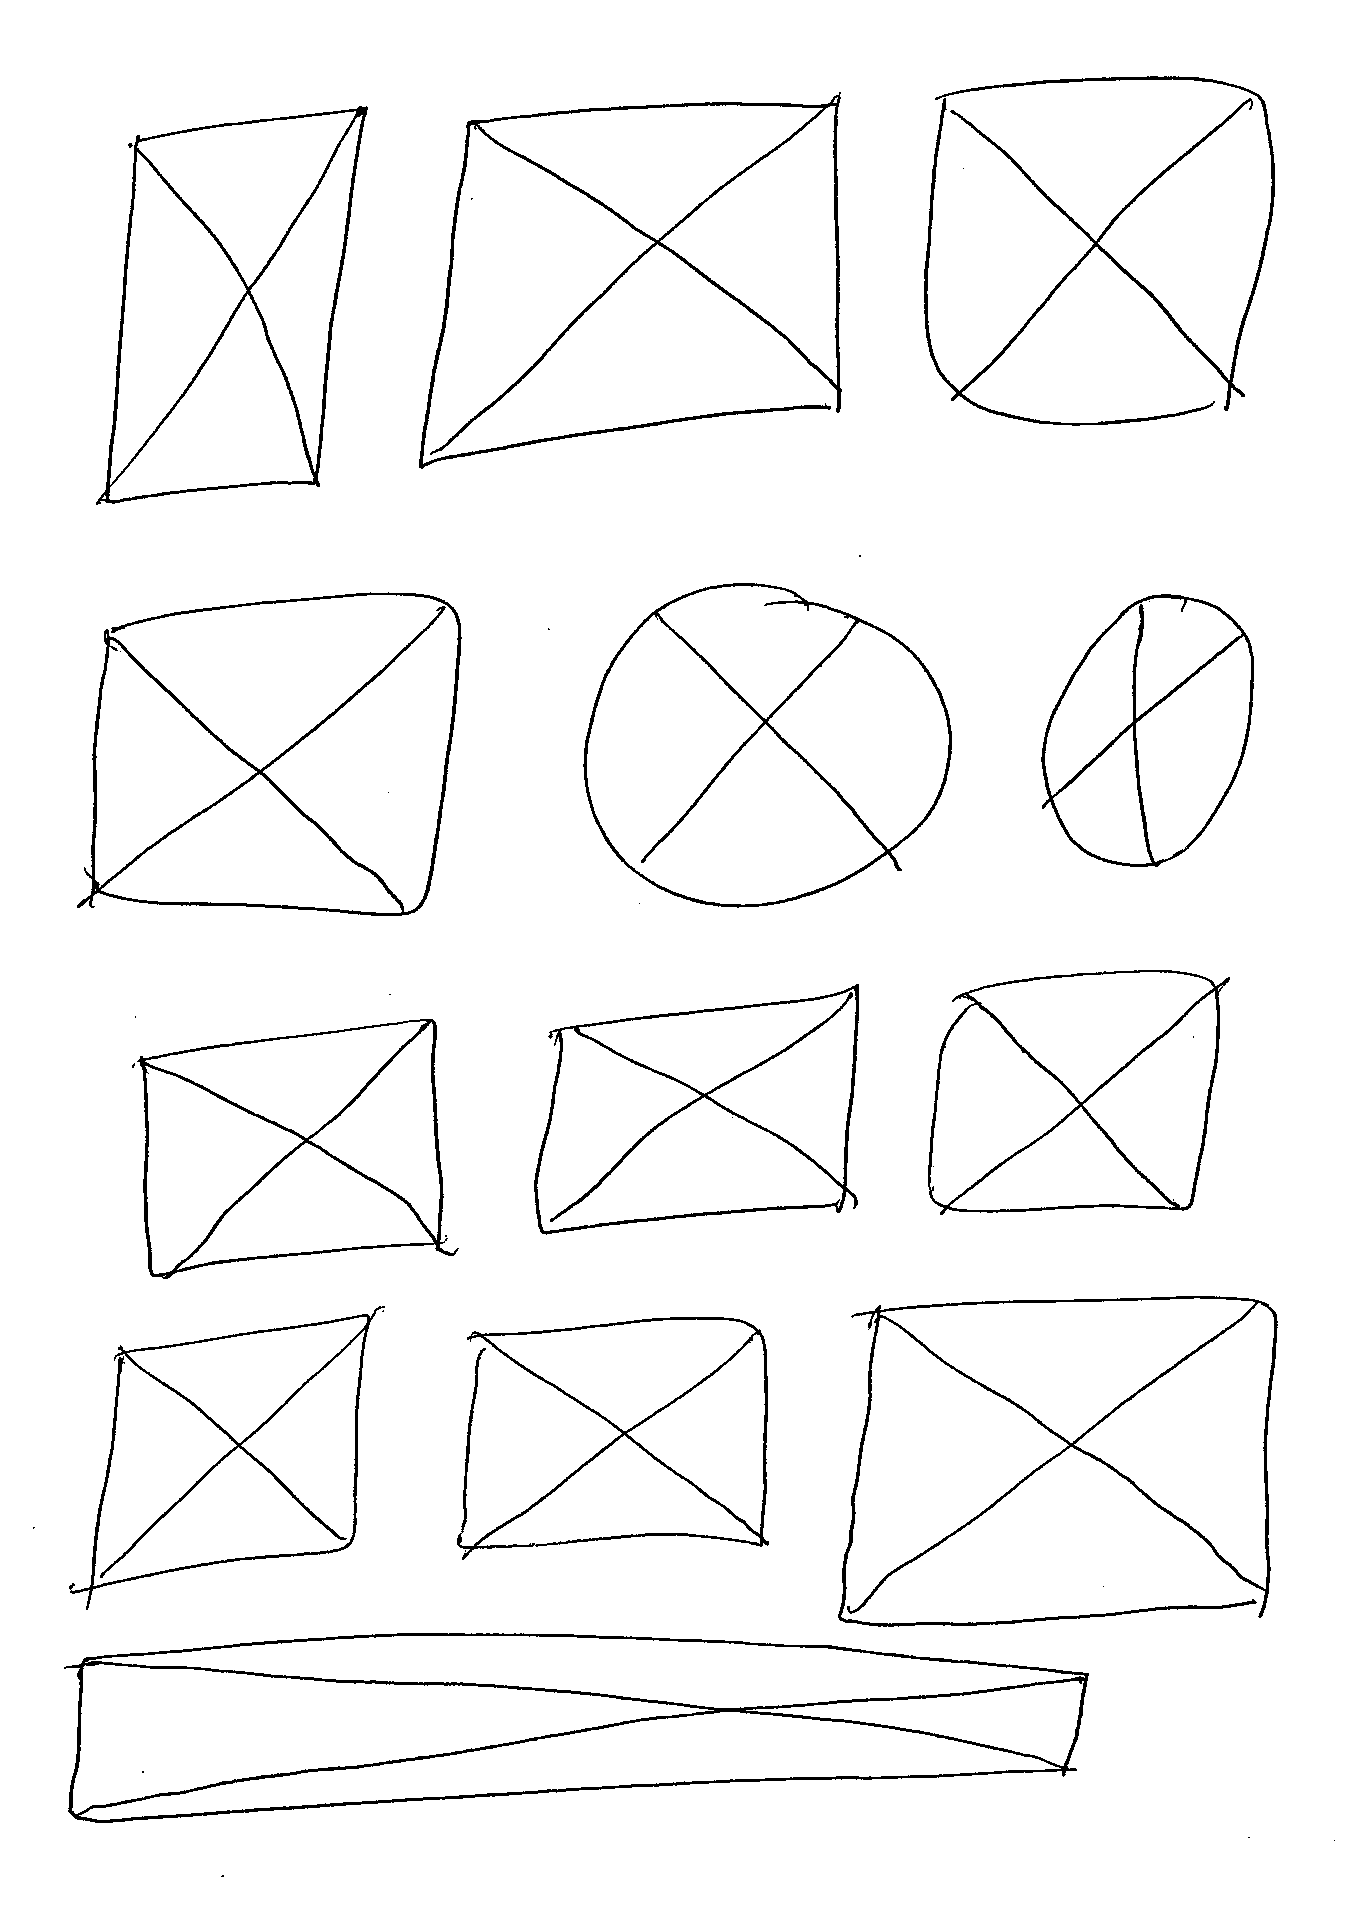Image: (62, 1626, 1093, 1826), (410, 92, 852, 476), (832, 1288, 1286, 1632), (915, 72, 1283, 435), (83, 588, 472, 923), (580, 580, 959, 912), (98, 103, 368, 512), (523, 985, 865, 1241), (130, 1014, 452, 1282), (83, 1306, 377, 1594), (451, 1309, 775, 1558), (921, 965, 1230, 1223), (1039, 588, 1263, 869)
